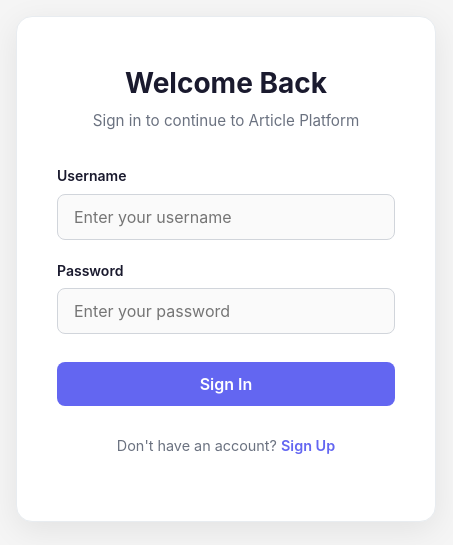
Test: LoginPage › Loading State › should disable form inputs during submission
Type "testuser" into the field labelled "Username" at (226, 217), box [57,194,395,240]
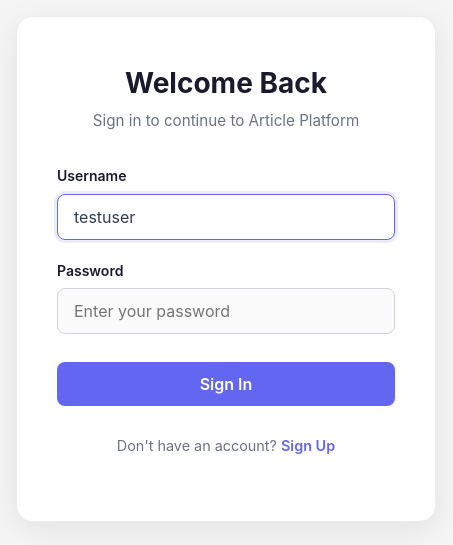
Type "SecurePass123" into the password field labelled "Password" at (226, 311), box [57,288,395,334]
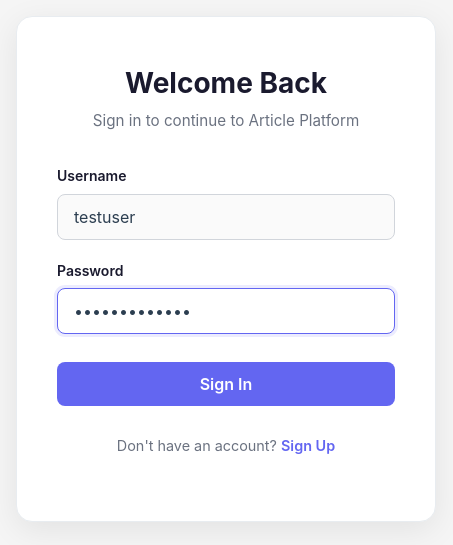
Click the button "Sign In" at (226, 384), box [57,362,395,406]
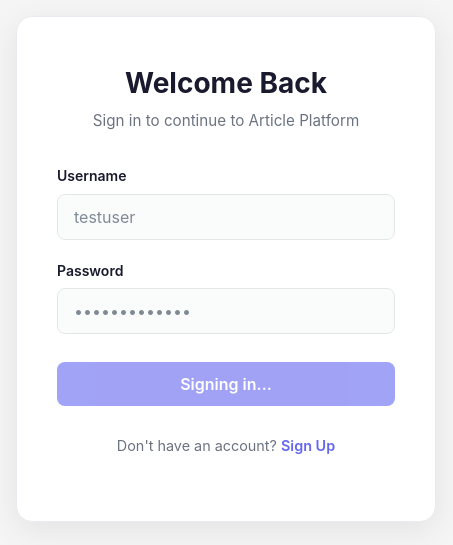
Now the field labelled "Username" is disabled, box [57,194,395,240]
Now the password field labelled "Password" is disabled, box [57,288,395,334]
Now the button named "sign in" is disabled, box [57,362,395,406]
